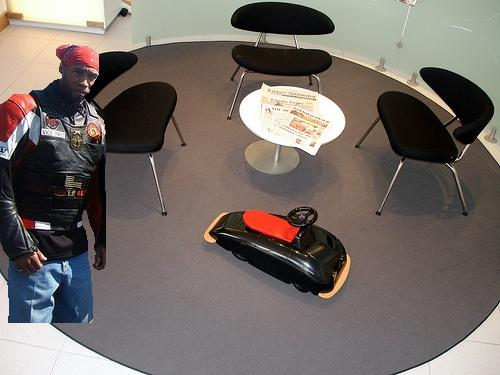tampered: (1, 45, 106, 323)
